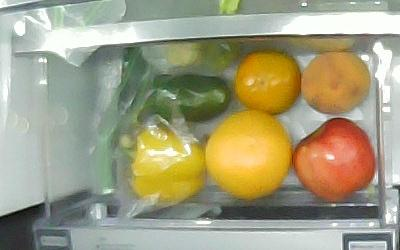apple: (292, 118, 375, 202)
broccoli_vinyl: (164, 38, 241, 71)
grapefruit: (205, 109, 291, 200)
paprika_vinyl: (130, 128, 206, 202), (137, 74, 231, 125)
peach: (301, 52, 370, 115)
persimmon: (234, 50, 301, 115)
